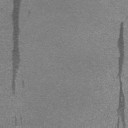red iron: (10, 0, 22, 94), (118, 80, 126, 127), (118, 22, 124, 78), (117, 120, 120, 126)
